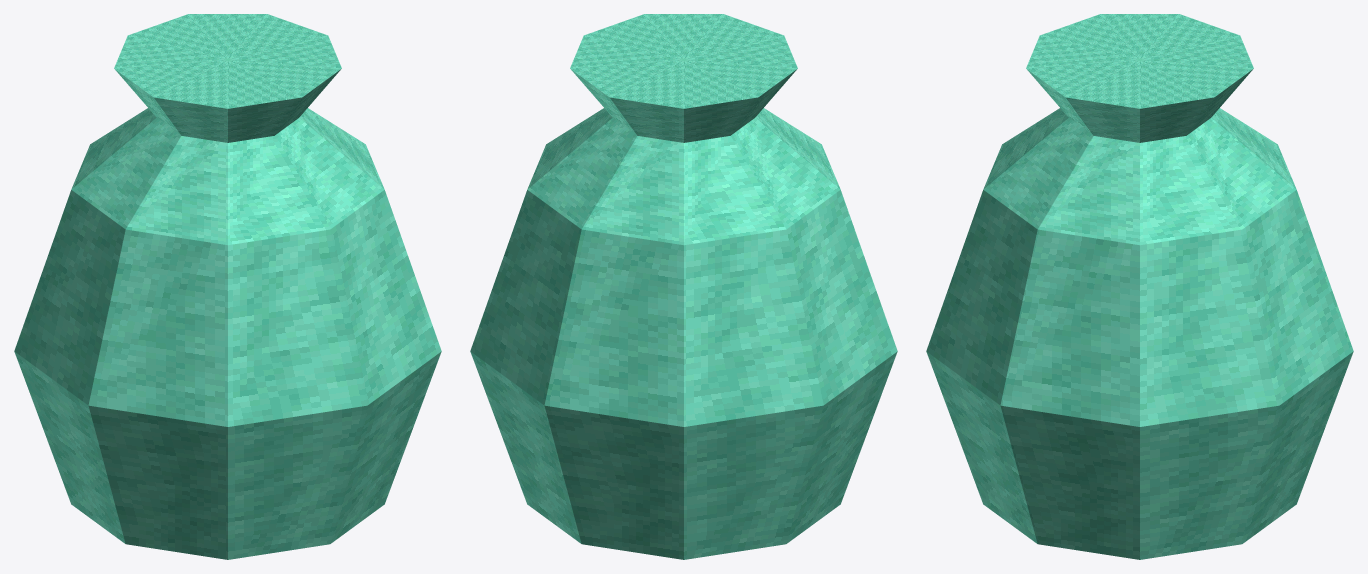
The model's file is esporo_de_cogumelo_brilhante.glb.
3 renders of one model, left to right at view 1: azimuth 30°, elevation 25°; view 2: azimuth 150°, elevation 25°; view 3: azimuth 270°, elevation 25°, orthographic.
Visible parts, largest first — view 1: esporo_de_cogumelo_brilhante; view 2: esporo_de_cogumelo_brilhante; view 3: esporo_de_cogumelo_brilhante.
Part boxes in pixels (x1,y1,x2,y2): esporo_de_cogumelo_brilhante: (14,14,441,559); esporo_de_cogumelo_brilhante: (470,14,897,559); esporo_de_cogumelo_brilhante: (926,14,1353,559).
Bounding box in the file's own units: 0.5819 × 0.66 × 0.5909.
Materials: 1 (1 with a texture image).
